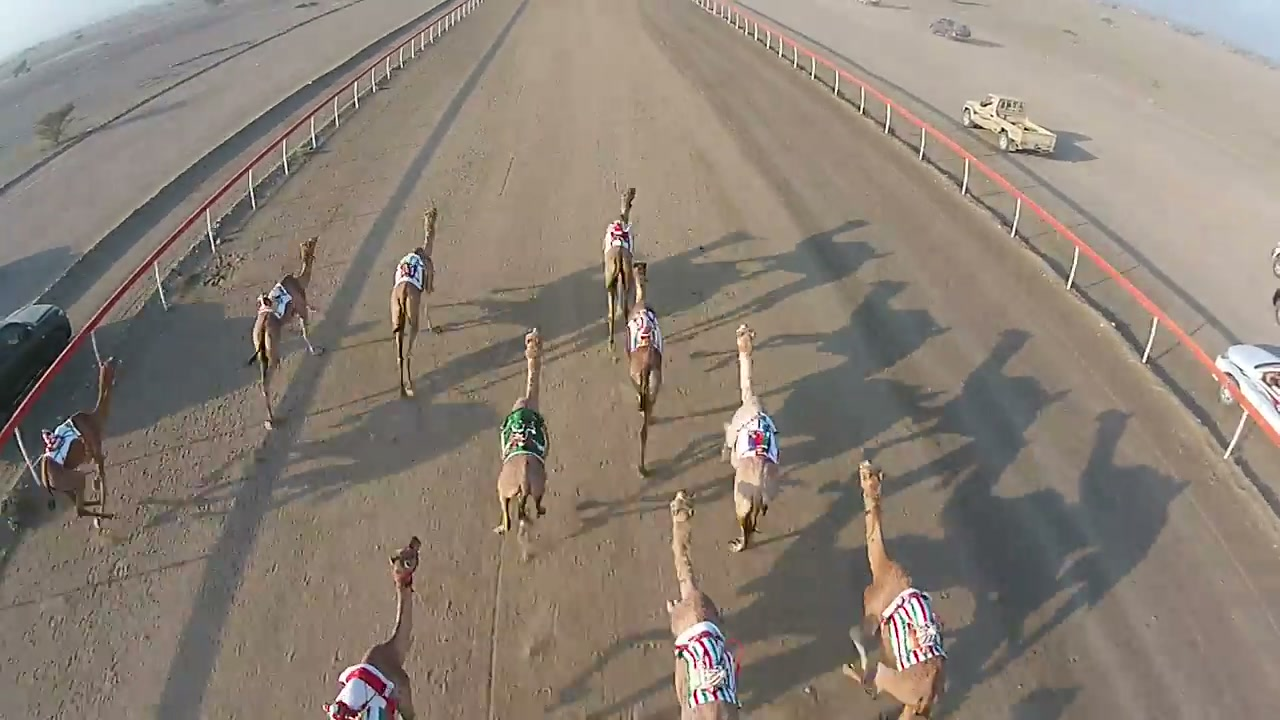animal_foot_print: (17, 449, 291, 719), (589, 493, 671, 719), (437, 424, 480, 718)
